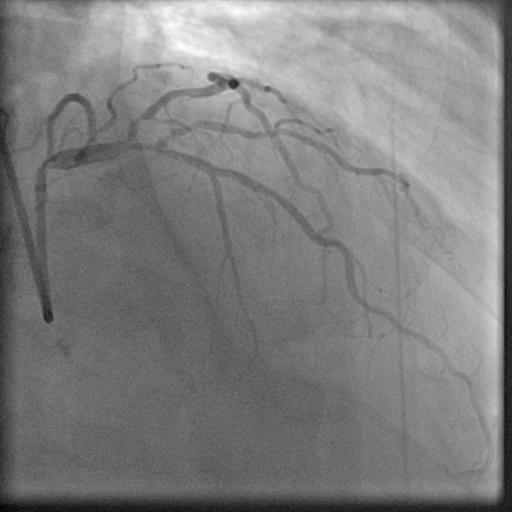Stenosis: (129, 107, 148, 132)
